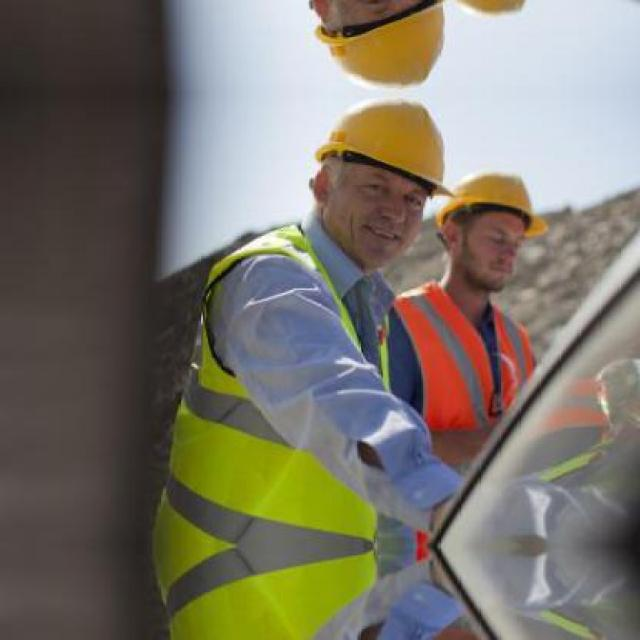Reflective-Jacket: (142, 228, 402, 535), (388, 278, 544, 481)
Safety-Helmet: (297, 94, 460, 204), (426, 162, 556, 248)
